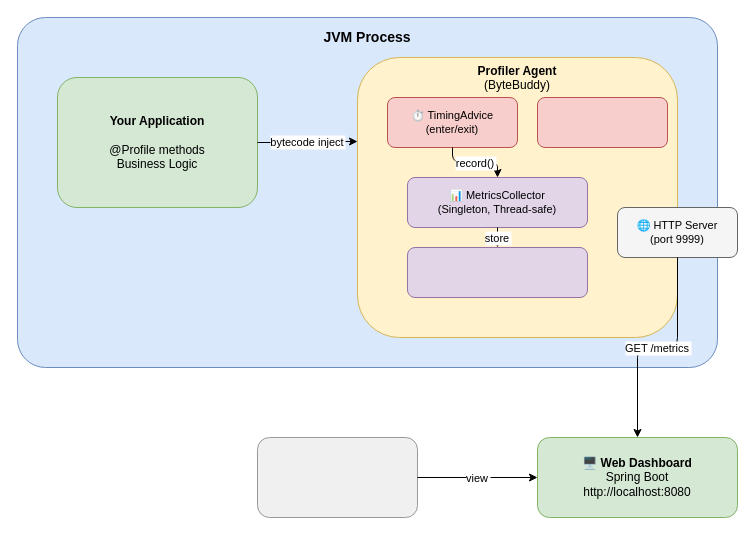
Some shapes in this 755 by 535 pixel diagram are drawn without their labels. The centre of each missing label's shape, as x and y in pixels:
"💾 MemoryAdvice (allocation tracking)" belongs at (602,122).
"📈 MethodMetric (AtomicLong counters)" belongs at (497,272).
"🧑‍💻 Developer Browser / curl" belongs at (337,477).
